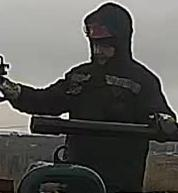gloves: (0, 74, 27, 102), (148, 110, 176, 124)
helmet: (81, 18, 117, 40)
vest: (64, 56, 153, 181)
